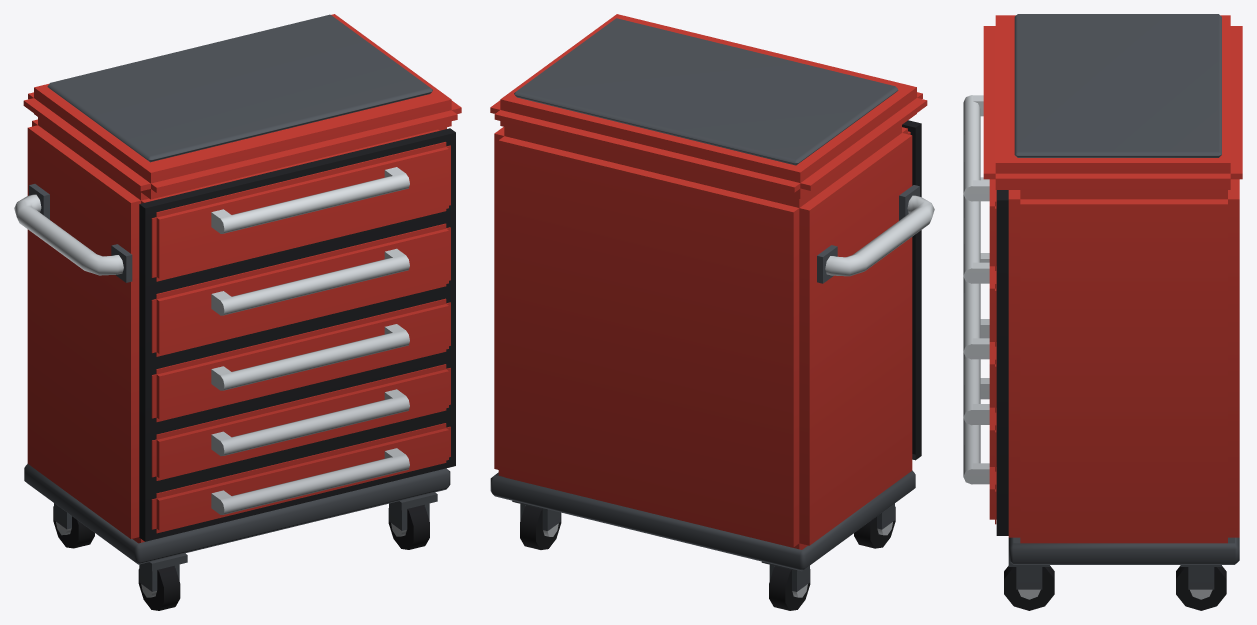
The model's file is ToolChest_Roller_01.glb.
The picture shows the model from 3 angles, left to right: view 1: azimuth 30°, elevation 25°; view 2: azimuth 150°, elevation 25°; view 3: azimuth 270°, elevation 25°; orthographic projection.
Parts seen in each view (by area): view 1: SM_ToolChest_Roller_01; view 2: SM_ToolChest_Roller_01; view 3: SM_ToolChest_Roller_01.
Part boxes in pixels (x1,y1,x2,y2): SM_ToolChest_Roller_01: (14, 14, 461, 610); SM_ToolChest_Roller_01: (490, 14, 934, 610); SM_ToolChest_Roller_01: (963, 14, 1242, 610).
Bounding box in the file's own units: 0.6925 × 0.862 × 0.4715.
1 material, 1 textured.
